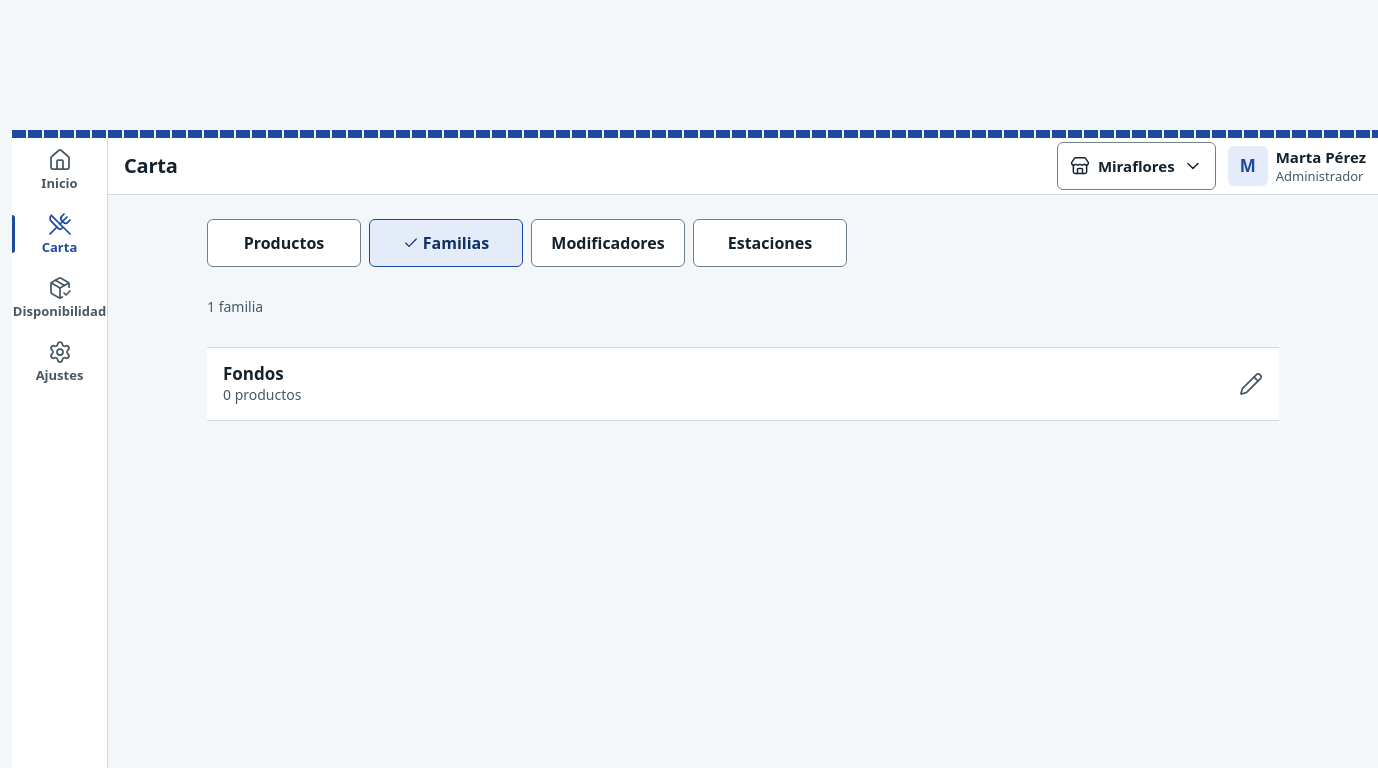
Test case: secciones: familias y estaciones › si la API responde EN_USO (otro la usó antes), lo explica con palabras
(page scrolled)
Click the button with aria-label "Editar Fondos".
click(253, 374)  # box [207,348,1279,420]
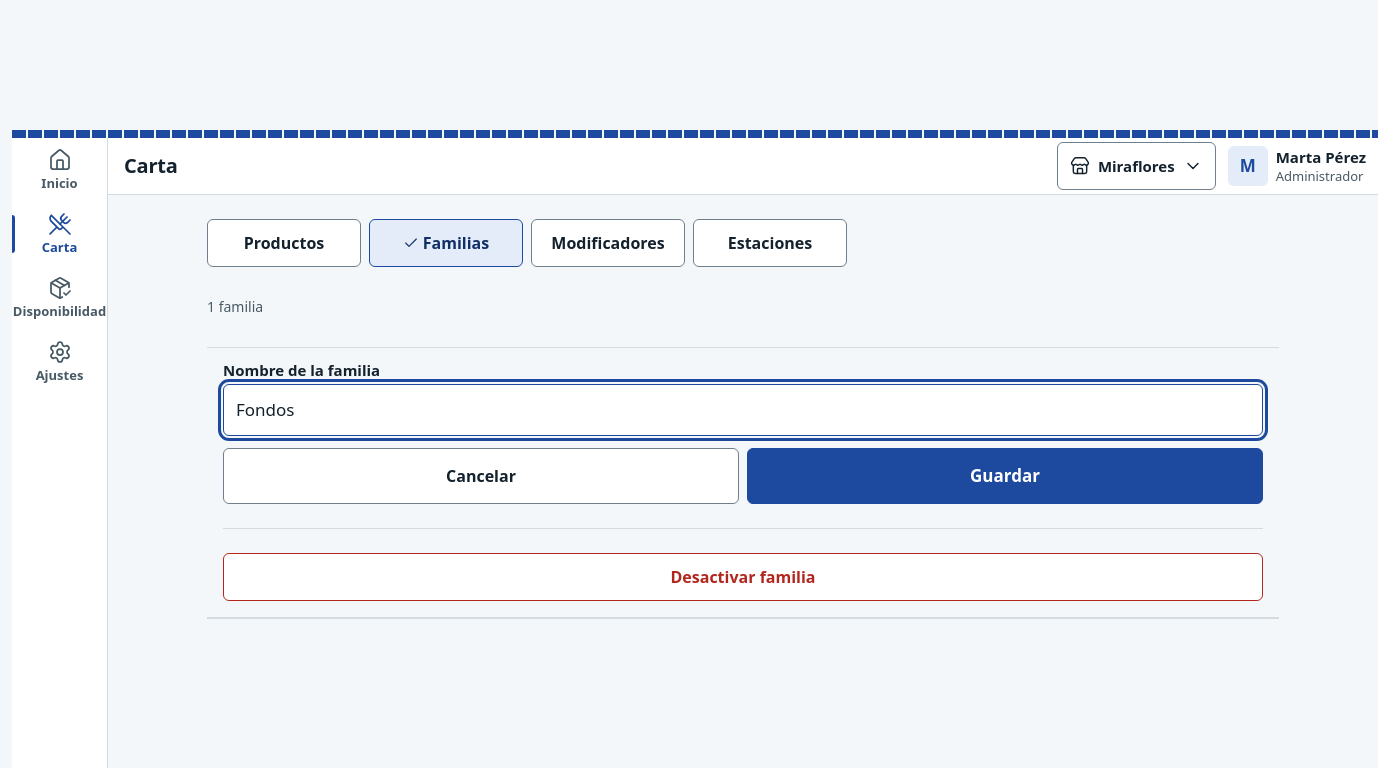
Click the button "Desactivar familia".
click(743, 577)  # box [223,553,1263,601]
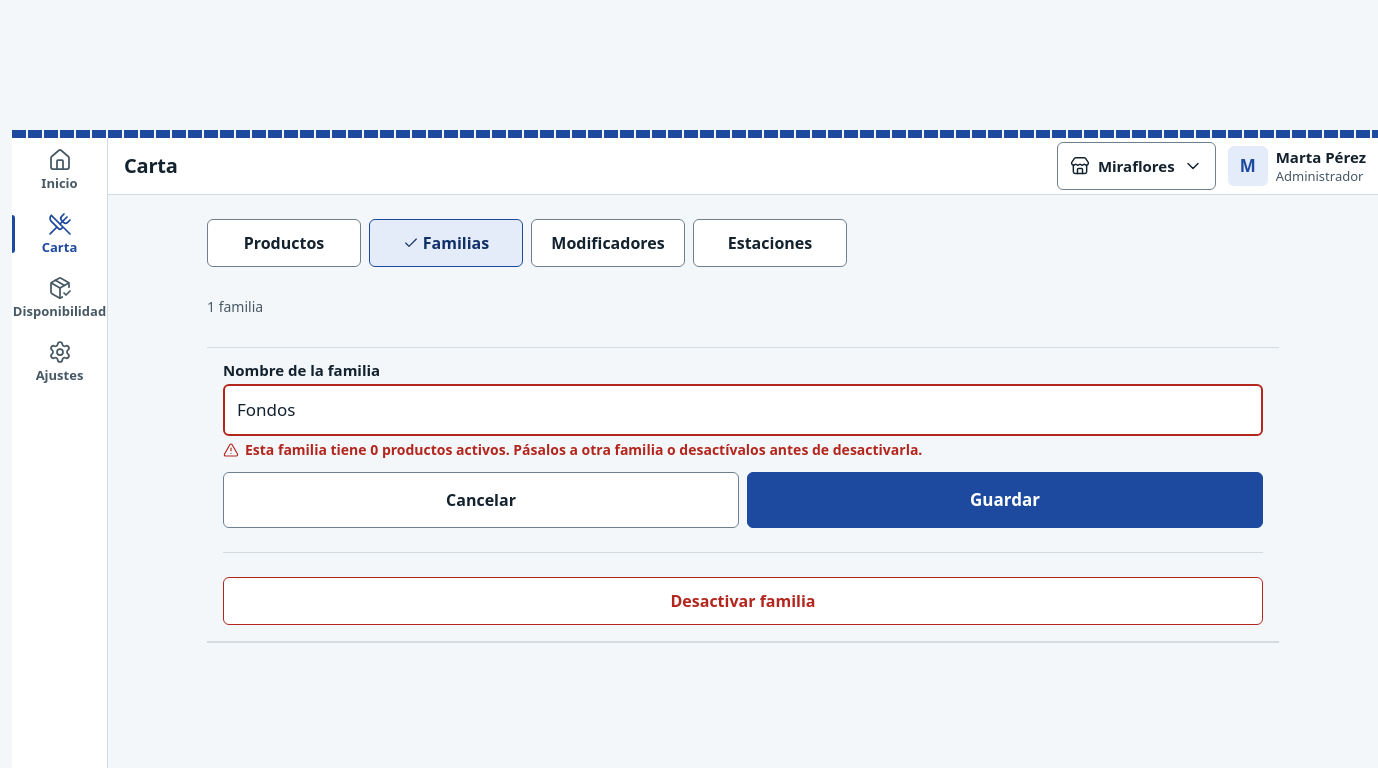
expect the text "Pásalos a otra familia o desactívalos" is shown: met, box [245,440,922,459]
